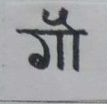au_matra: (43, 8, 89, 68)
